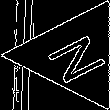N_NE: (37, 25, 110, 85)
